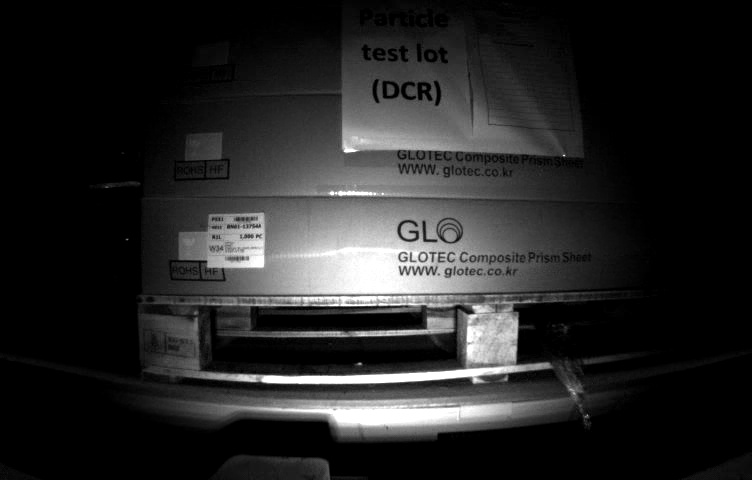True Barcode: (206, 213, 269, 271)
